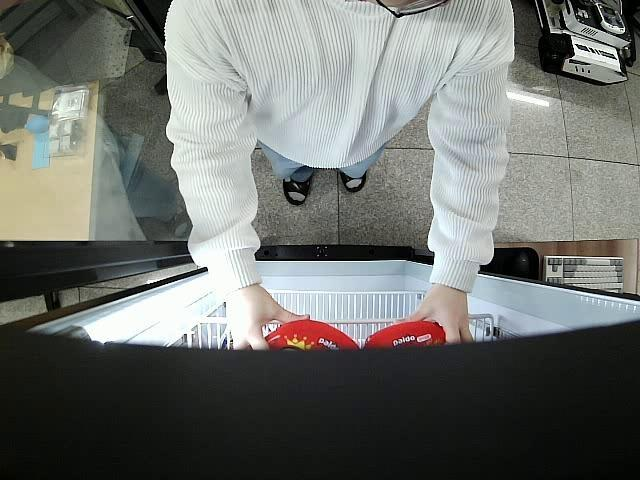10_wangTtukkeong: (252, 318, 361, 354), (363, 322, 453, 347)
